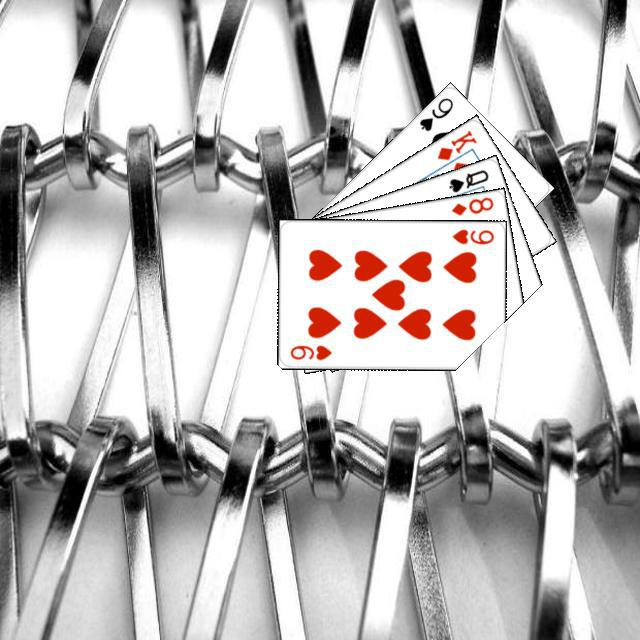8d: (446, 192, 495, 217)
9h: (447, 224, 495, 246), (285, 340, 333, 362)
9s: (414, 93, 455, 133)
Kd: (432, 125, 478, 162)
Qs: (444, 165, 490, 194)
